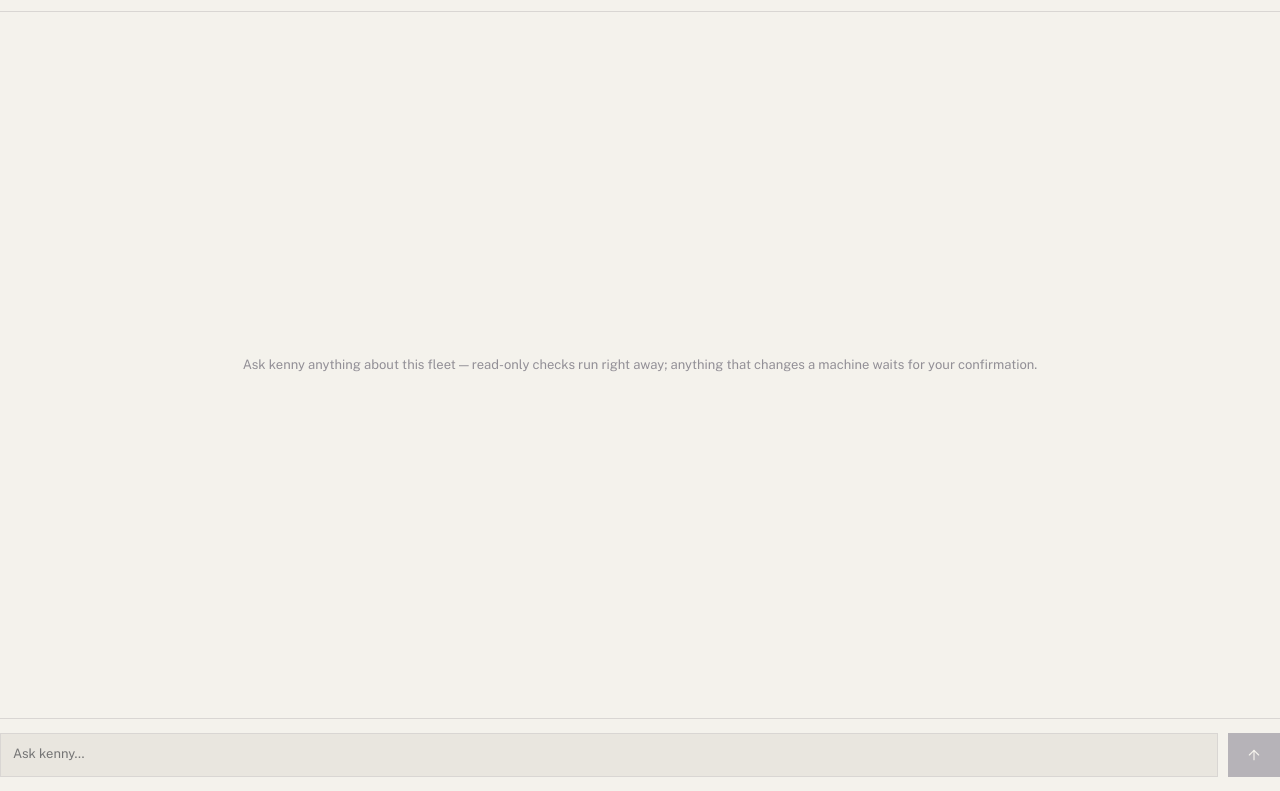
AskKennyDrawer — composer lock › locks the composer once a pending event arrives — the gate, not a client-side guess
(page scrolled)
In the text box named "Message kenny": (609, 755) [0, 733, 1218, 777], type "free up disk space"
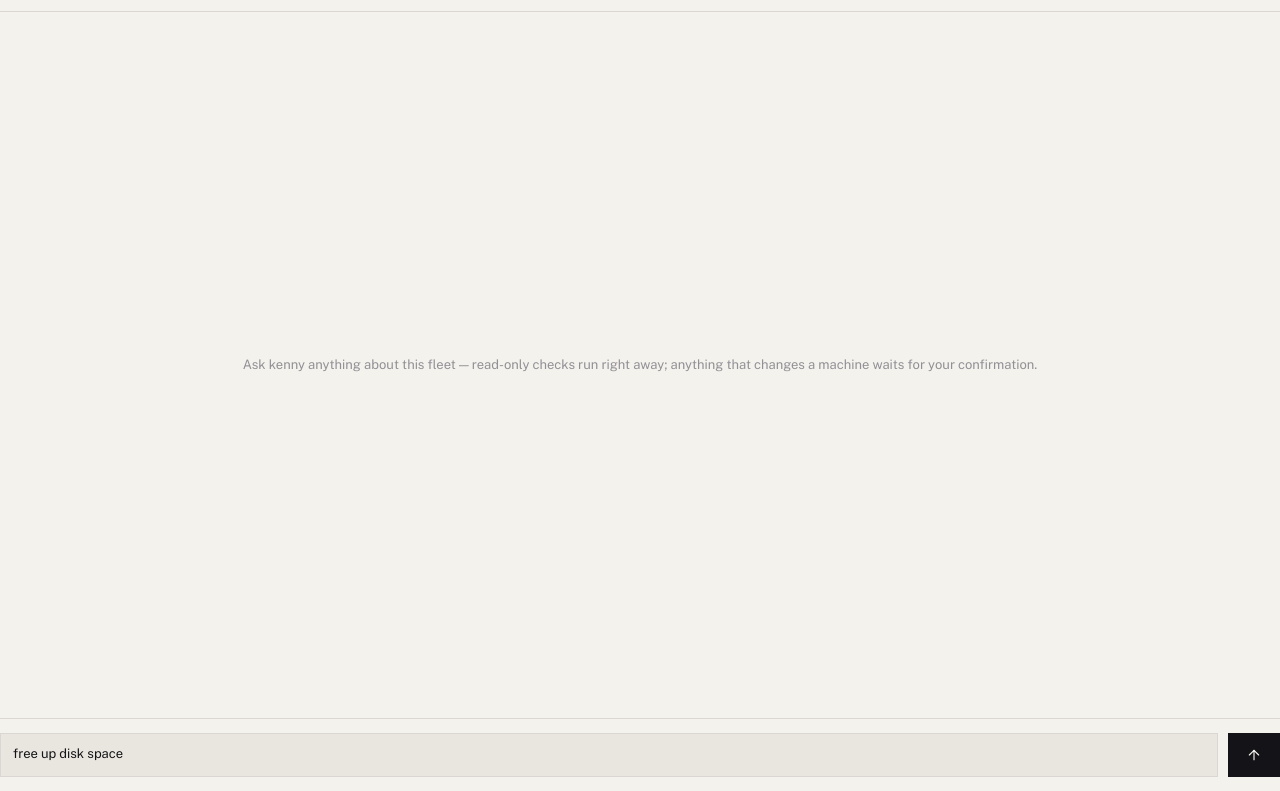
Click the button named "Send": (1254, 755) [1228, 733, 1279, 777]
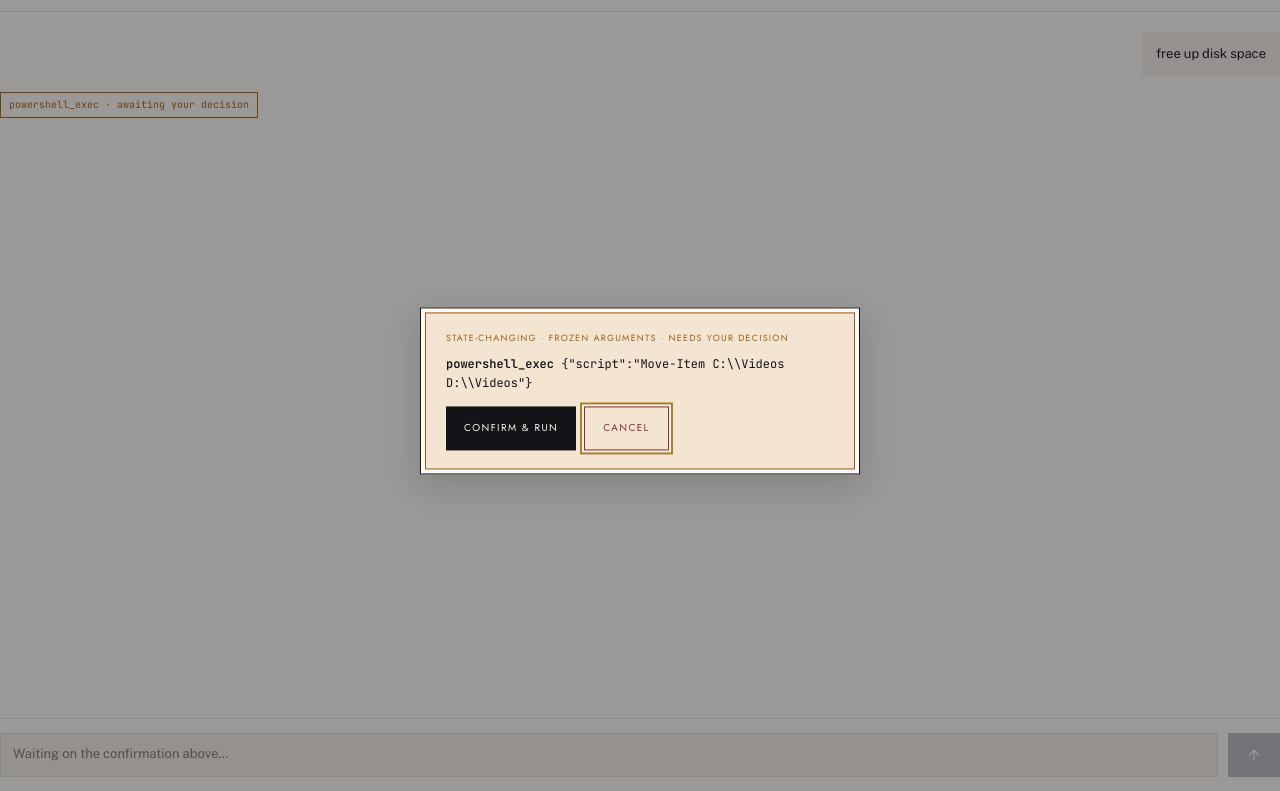
Check: the text box named "Message kenny" is disabled, box [0, 733, 1218, 777]
Check: the button named "Send" is disabled, box [1228, 733, 1279, 777]
